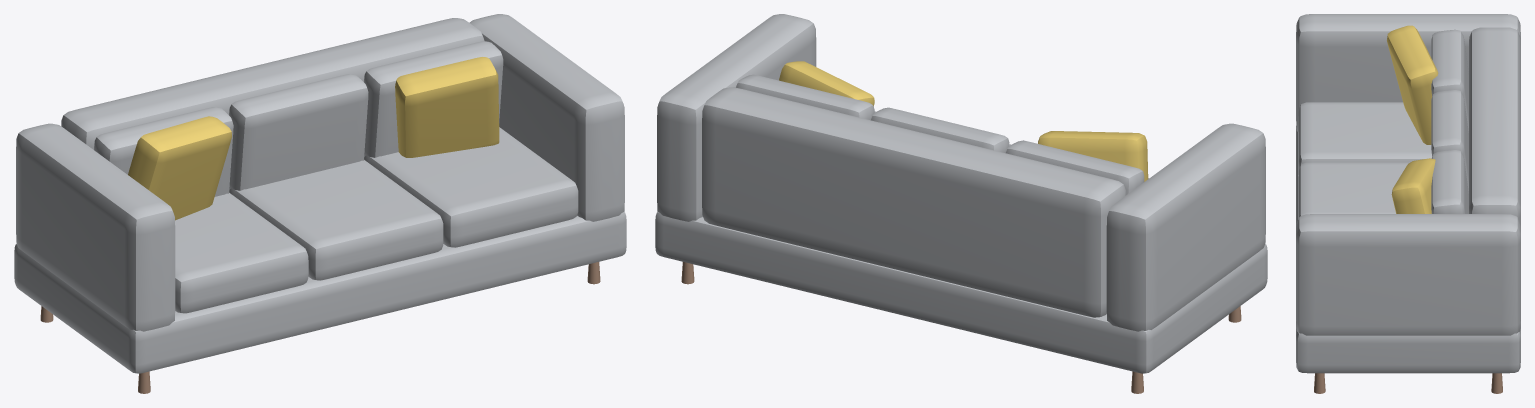
The model's file is sofa-3.glb.
The picture shows the model from 3 angles, left to right: view 1: azimuth 30°, elevation 25°; view 2: azimuth 150°, elevation 25°; view 3: azimuth 270°, elevation 25°; orthographic projection. The views are drawn at different scales.
Visible parts, largest first — view 1: Cube, Cube.001, Cube.002, Cube.006, Cube.008, Cube.003, Cube.007, Cube.004, Cube.011, Cube.010, Cube.009, Cube.005; view 2: Cube.003, Cube, Cube.001, Cube.002, Cube.010, Cube.005, Cube.009, Cube.007, Cube.011; view 3: Cube.002, Cube.001, Cube.003, Cube, Cube.004, Cube.006, Cube.010, Cube.007, Cube.005, Cube.009, Cube.011, Cone.002 (+1 smaller).
Part boxes in pixels (box(x1,y1,x2,y2)): Cube: box(14, 211, 626, 373); Cube.001: box(16, 123, 175, 331); Cube.002: box(469, 14, 624, 221); Cube.006: box(229, 160, 443, 280); Cube.008: box(364, 127, 578, 247); Cube.003: box(61, 18, 484, 149); Cube.007: box(229, 74, 368, 190); Cube.004: box(175, 192, 308, 313); Cube.011: box(395, 57, 499, 157); Cube.010: box(128, 116, 231, 220); Cube.009: box(364, 41, 503, 157); Cube.005: box(94, 107, 233, 196); Cube.003: box(702, 87, 1125, 317); Cube: box(655, 211, 1267, 373); Cube.001: box(1106, 123, 1265, 331); Cube.002: box(657, 14, 816, 221); Cube.010: box(1038, 131, 1148, 181); Cube.005: box(1006, 140, 1144, 195); Cube.009: box(736, 74, 874, 120); Cube.007: box(871, 107, 1009, 152); Cube.011: box(779, 61, 874, 106); Cube.002: box(1296, 214, 1520, 335); Cube.001: box(1296, 14, 1520, 131); Cube.003: box(1469, 27, 1520, 231); Cube: box(1296, 126, 1520, 373); Cube.004: box(1298, 102, 1431, 174); Cube.006: box(1298, 162, 1409, 218); Cube.010: box(1387, 25, 1438, 144); Cube.007: box(1431, 89, 1468, 193); Cube.005: box(1431, 29, 1468, 132); Cube.009: box(1431, 149, 1468, 213); Cube.011: box(1391, 158, 1435, 213); Cone.002: box(1491, 373, 1502, 393).
Bounding box in the file's own units: 2.2 × 0.8779 × 0.95.
